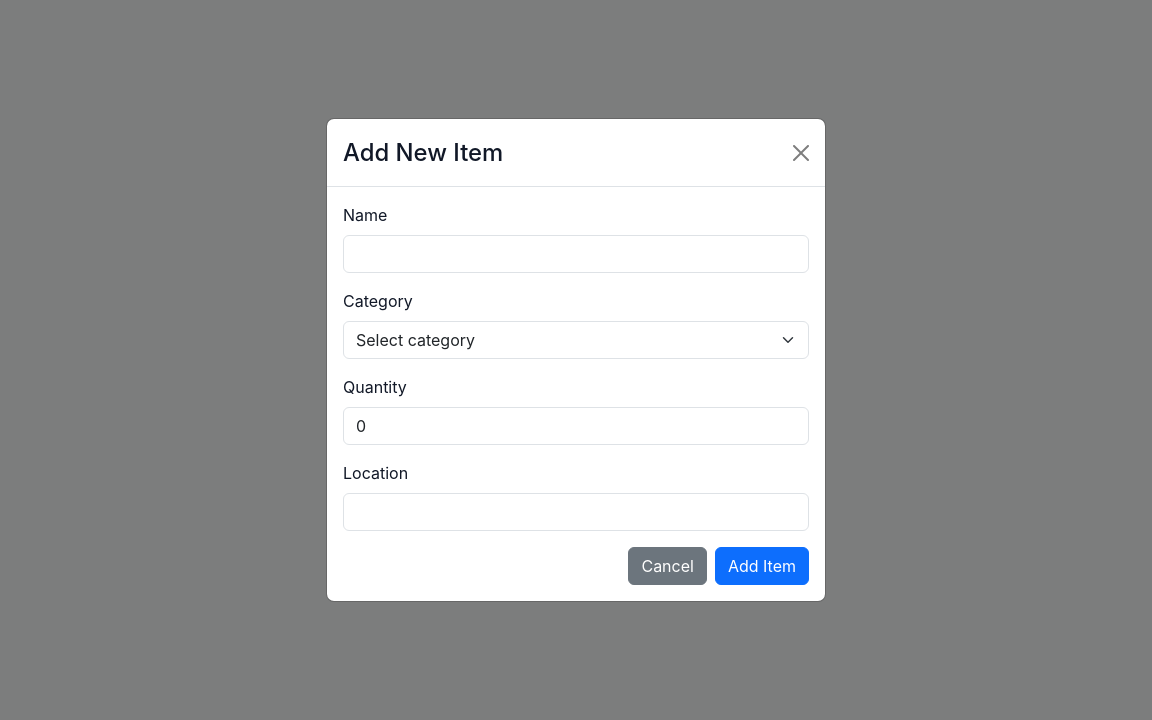
it: AddItemModal › validates required fields
This screenshot has width=1152, height=720.
Click the button "Add Item": (762, 566) x1=715 y1=547 x2=809 y2=585
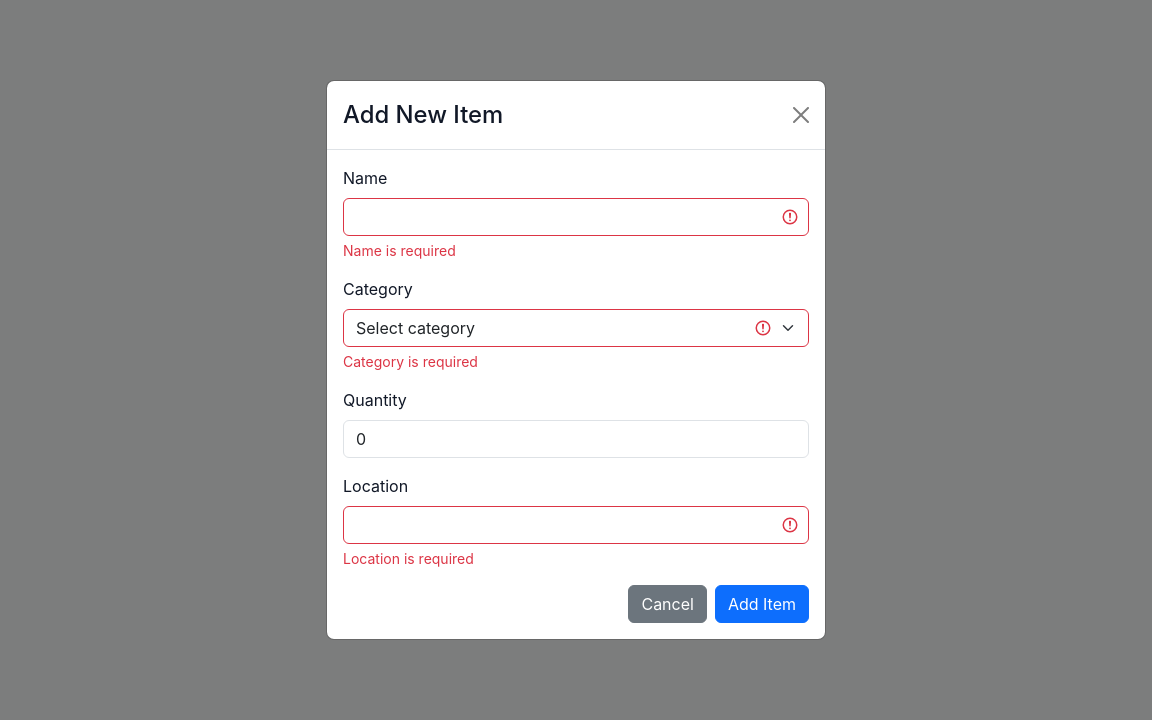
Expected: the text "Name is required" is shown, x1=343 y1=242 x2=456 y2=259
Expected: the text "Category is required" is shown, x1=343 y1=353 x2=478 y2=370
Expected: the text "Location is required" is shown, x1=343 y1=550 x2=474 y2=567
